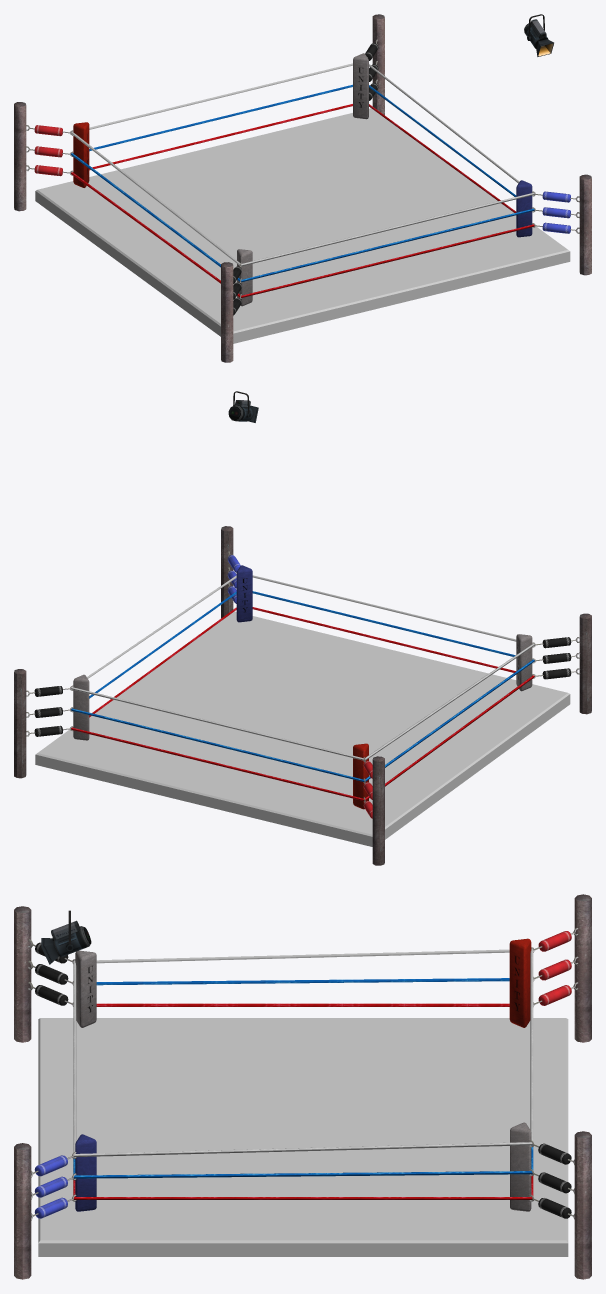
The model's file is Ring_Boxing.fbx.
3 views of the same model, one above another, from view 1: azimuth 30°, elevation 25°; view 2: azimuth 150°, elevation 25°; view 3: azimuth 270°, elevation 25° (orthographic). The views are drawn at different scales.
Visible parts, largest first — view 1: Boxing_ring_1_5, Boxing_ring_1_12, Boxing_ring_1_11, Boxing_ring_1_10, Boxing_ring_1_2, Boxing_ring_1_4, Boxing_ring_1_3, Boxing_ring_1_1, Boxing_ring_1_13, Boxing_ring_1_18, Boxing_ring_1_20, Boxing_ring_1_6 (+3 smaller); view 2: Boxing_ring_1_5, Boxing_ring_1_12, Boxing_ring_1_11, Boxing_ring_1_10, Boxing_ring_1_2, Boxing_ring_1_1, Boxing_ring_1_3, Boxing_ring_1_13, Boxing_ring_1_20, Boxing_ring_1_4, Boxing_ring_1_19, Boxing_ring_1_18 (+3 smaller); view 3: Boxing_ring_1_5, Boxing_ring_1_12, Boxing_ring_1_11, Boxing_ring_1_10, Boxing_ring_1_1, Boxing_ring_1_2, Boxing_ring_1_4, Boxing_ring_1_3, Boxing_ring_1_18, Boxing_ring_1_13, Boxing_ring_1_19, Boxing_ring_1_20 (+5 smaller).
Part boxes in pixels (left/top/right/bottom): Boxing_ring_1_5: left=35, top=108, right=570, bottom=343; Boxing_ring_1_12: left=71, top=63, right=534, bottom=266; Boxing_ring_1_11: left=71, top=84, right=534, bottom=282; Boxing_ring_1_10: left=71, top=104, right=534, bottom=297; Boxing_ring_1_2: left=14, top=102, right=26, bottom=211; Boxing_ring_1_4: left=579, top=174, right=591, bottom=275; Boxing_ring_1_3: left=221, top=262, right=233, bottom=362; Boxing_ring_1_1: left=372, top=14, right=384, bottom=115; Boxing_ring_1_13: left=353, top=53, right=368, bottom=119; Boxing_ring_1_18: left=73, top=122, right=89, bottom=187; Boxing_ring_1_20: left=516, top=180, right=532, bottom=237; Boxing_ring_1_6: left=34, top=125, right=62, bottom=176; Boxing_ring_1_5: left=35, top=611, right=570, bottom=846; Boxing_ring_1_12: left=71, top=575, right=534, bottom=760; Boxing_ring_1_11: left=71, top=591, right=534, bottom=781; Boxing_ring_1_10: left=71, top=607, right=534, bottom=800; Boxing_ring_1_2: left=372, top=756, right=384, bottom=865; Boxing_ring_1_1: left=14, top=669, right=26, bottom=778; Boxing_ring_1_3: left=579, top=613, right=591, bottom=714; Boxing_ring_1_13: left=73, top=674, right=89, bottom=740; Boxing_ring_1_20: left=236, top=565, right=252, bottom=622; Boxing_ring_1_4: left=221, top=526, right=233, bottom=618; Boxing_ring_1_19: left=516, top=634, right=532, bottom=691; Boxing_ring_1_18: left=353, top=743, right=368, bottom=809; Boxing_ring_1_5: left=38, top=1018, right=568, bottom=1256; Boxing_ring_1_12: left=73, top=949, right=533, bottom=1156; Boxing_ring_1_11: left=73, top=978, right=533, bottom=1178; Boxing_ring_1_10: left=73, top=1003, right=533, bottom=1199; Boxing_ring_1_1: left=574, top=1131, right=591, bottom=1279; Boxing_ring_1_2: left=574, top=894, right=591, bottom=1042; Boxing_ring_1_4: left=14, top=1143, right=31, bottom=1279; Boxing_ring_1_3: left=14, top=906, right=31, bottom=1042; Boxing_ring_1_18: left=509, top=938, right=531, bottom=1027; Boxing_ring_1_13: left=510, top=1122, right=531, bottom=1211; Boxing_ring_1_19: left=75, top=950, right=96, bottom=1027; Boxing_ring_1_20: left=75, top=1134, right=96, bottom=1211.
Size of the model in its own units: 2986 by 1945 by 2987.
